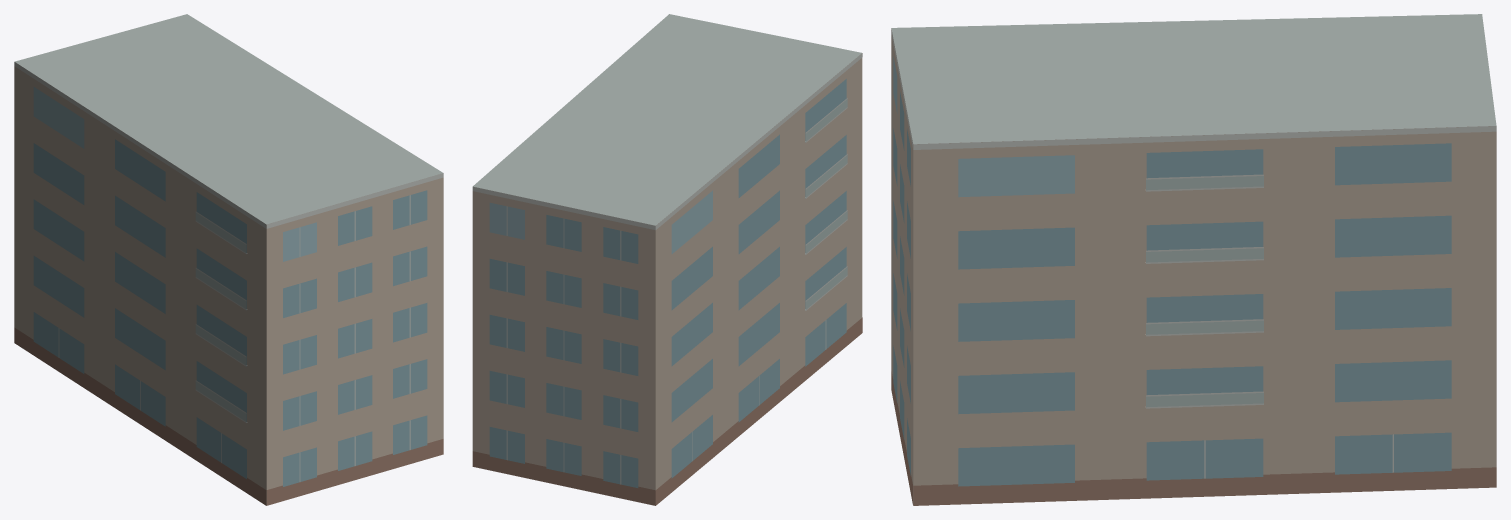
Rendered from survey-upis-32737612.glb.
3 views of the same model, side by side, from view 1: azimuth 30°, elevation 25°; view 2: azimuth 150°, elevation 25°; view 3: azimuth 270°, elevation 25° (orthographic). The views are drawn at different scales.
Visible parts, largest first — view 1: survey-upis-32737612.tmp; view 2: survey-upis-32737612.tmp; view 3: survey-upis-32737612.tmp.
Boxes of the visible parts, <box> form: survey-upis-32737612.tmp: <box>14,14,443,505</box>; survey-upis-32737612.tmp: <box>472,14,862,505</box>; survey-upis-32737612.tmp: <box>891,14,1496,505</box>.
Size of the model in its own units: 11.75 by 15.2 by 23.06.
